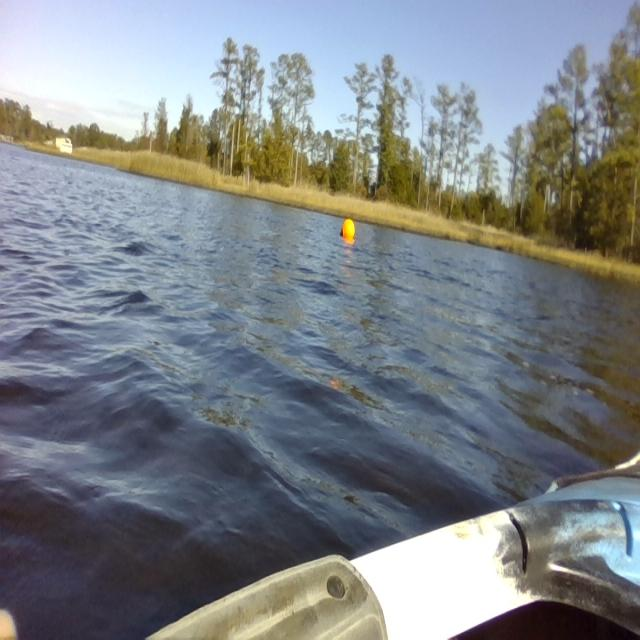Buoy: (339, 215, 357, 243)
